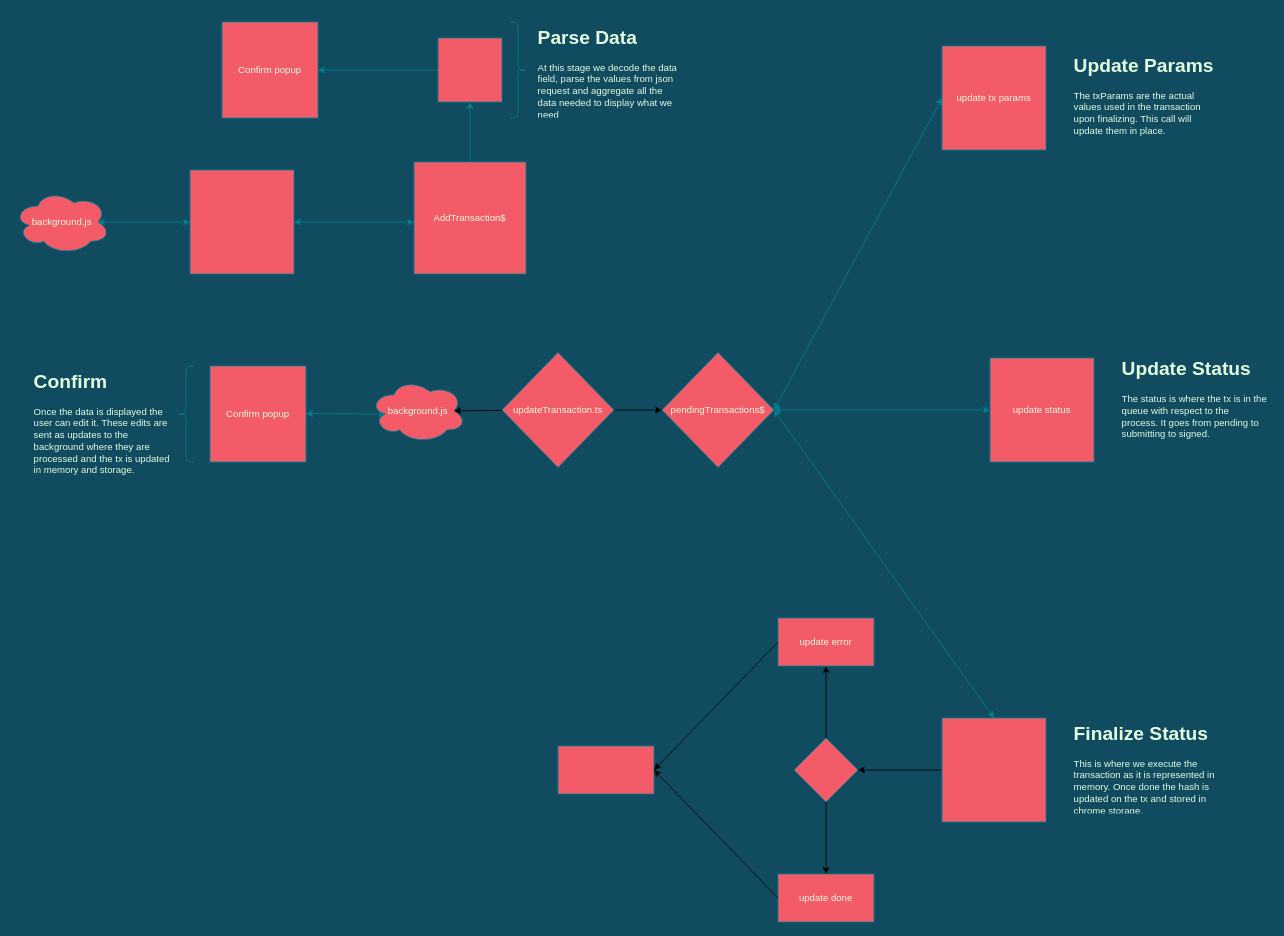
Some shapes in this 1284 by 936 pixel diagram are drawn without their labels. The centre of each missing label's shape, as x and y in pixels:
"check for type" goes at point 825,769.
"eth_sendTransaction" goes at point 241,221.
"finalize" goes at point 993,769.
"Parse" goes at point 469,69.
"transactions$" goes at point 605,769.
